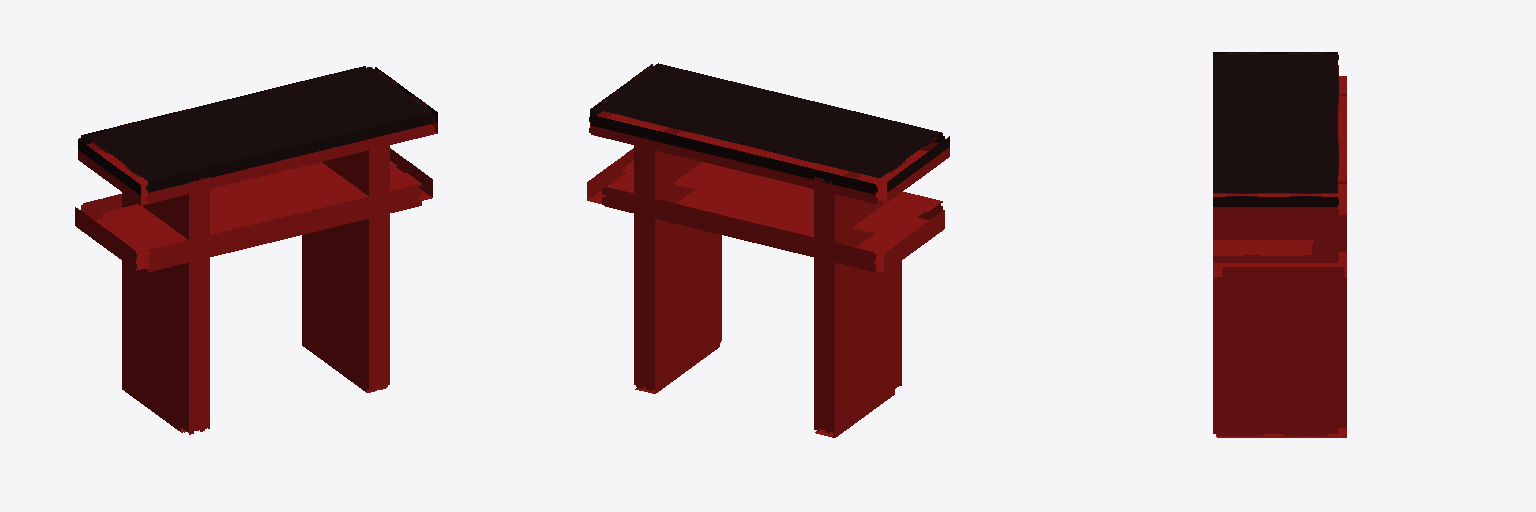
3 views of the same model, side by side, from view 1: azimuth 30°, elevation 25°; view 2: azimuth 150°, elevation 25°; view 3: azimuth 270°, elevation 25° (orthographic).
Visible parts, largest first — view 1: Cube.002; view 2: Cube.002; view 3: Cube.002.
Boxes of the visible parts, x1,y1,x2,y2 form: Cube.002: [75, 66, 437, 434]; Cube.002: [587, 63, 949, 437]; Cube.002: [1213, 52, 1346, 437].
Size of the model in its own units: 5.12 by 4.39 by 2.
Materials: 1 (1 with a texture image).